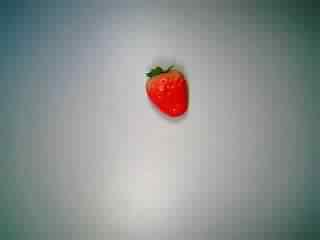strawberry: (132, 60, 198, 122)
